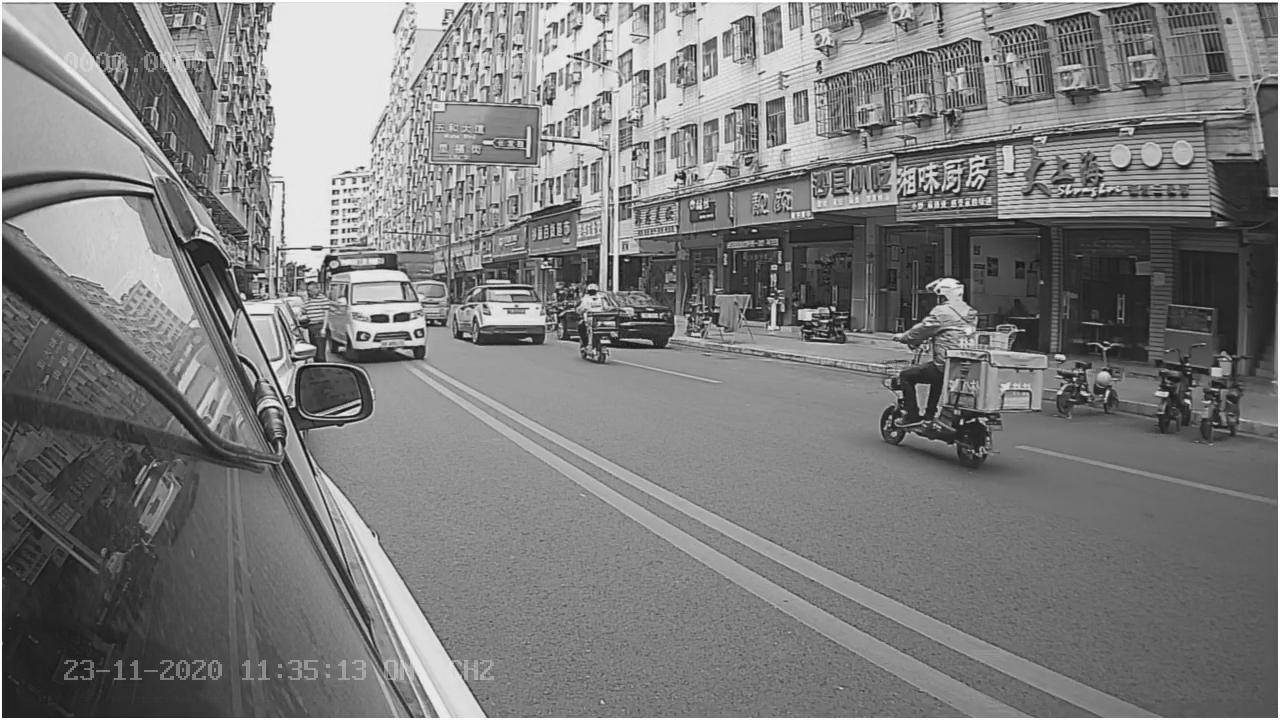person: (892, 265, 981, 350)
